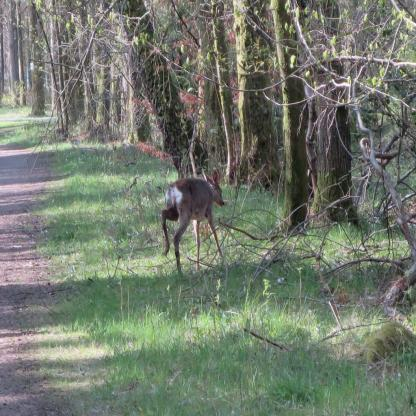Deer: (160, 169, 225, 281)
